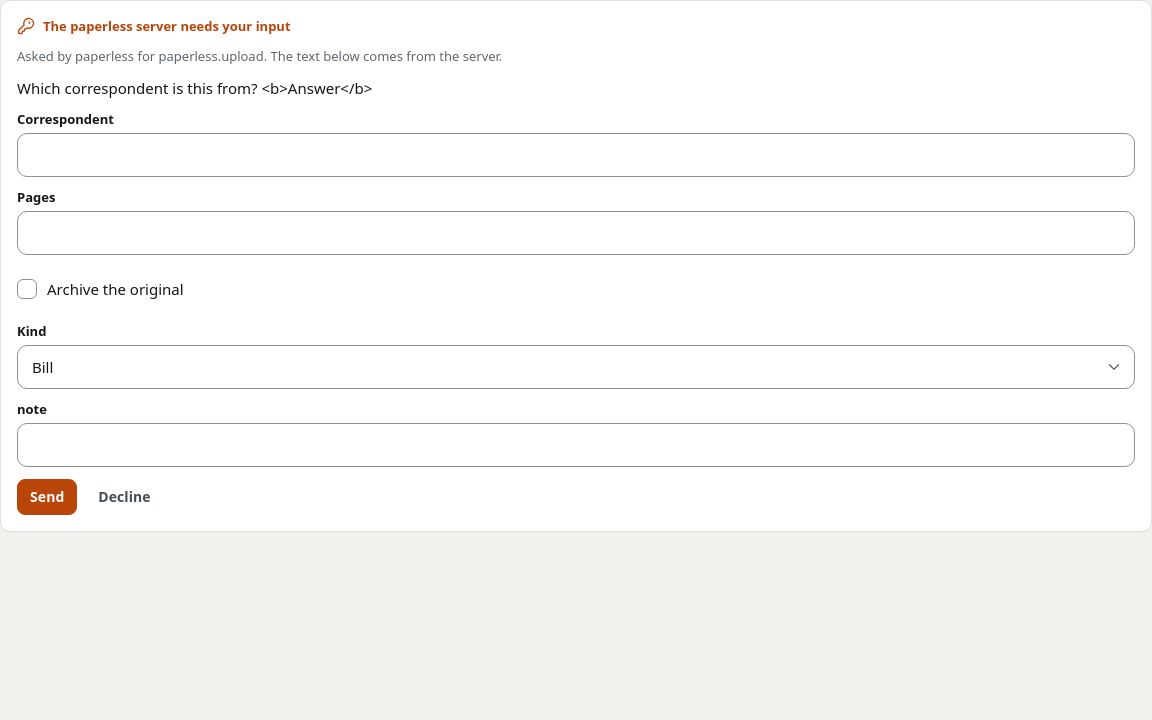
Test: InputRequestForm › sends the answer with typed values and leaves empty optional fields out
Type "ACME" into the field named "correspondent" at (576, 155), box [17,133,1135,177]
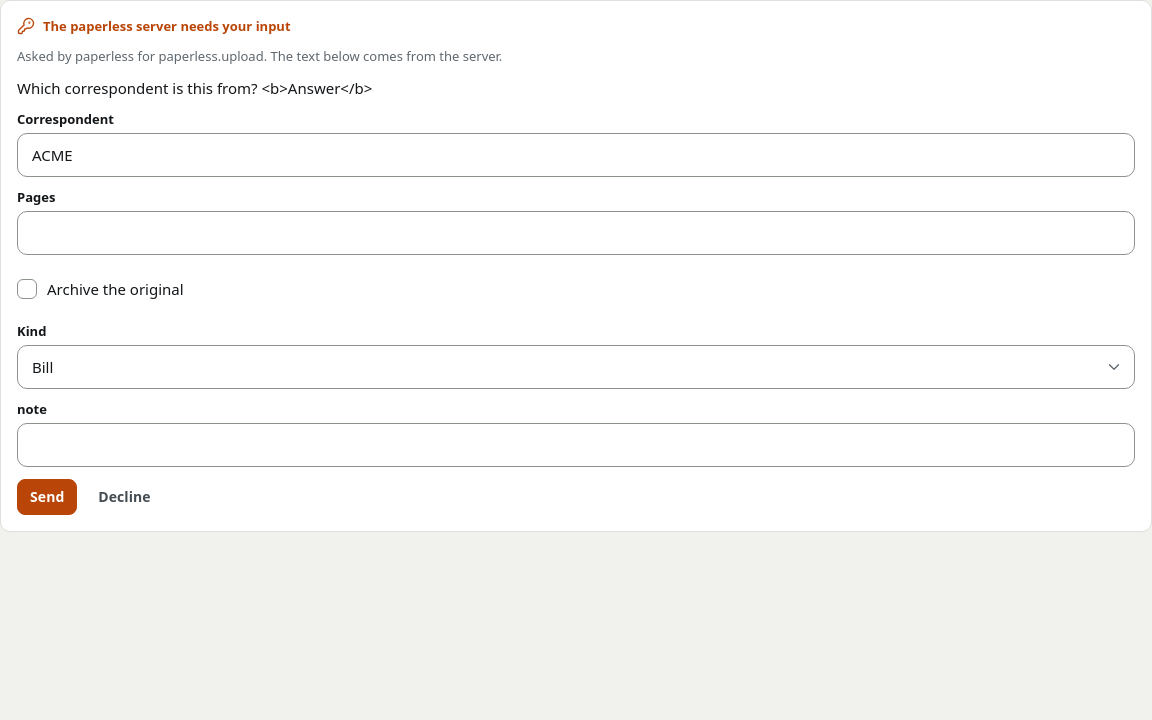
Type "3" into the number field named "pages" at (576, 233), box [17,211,1135,255]
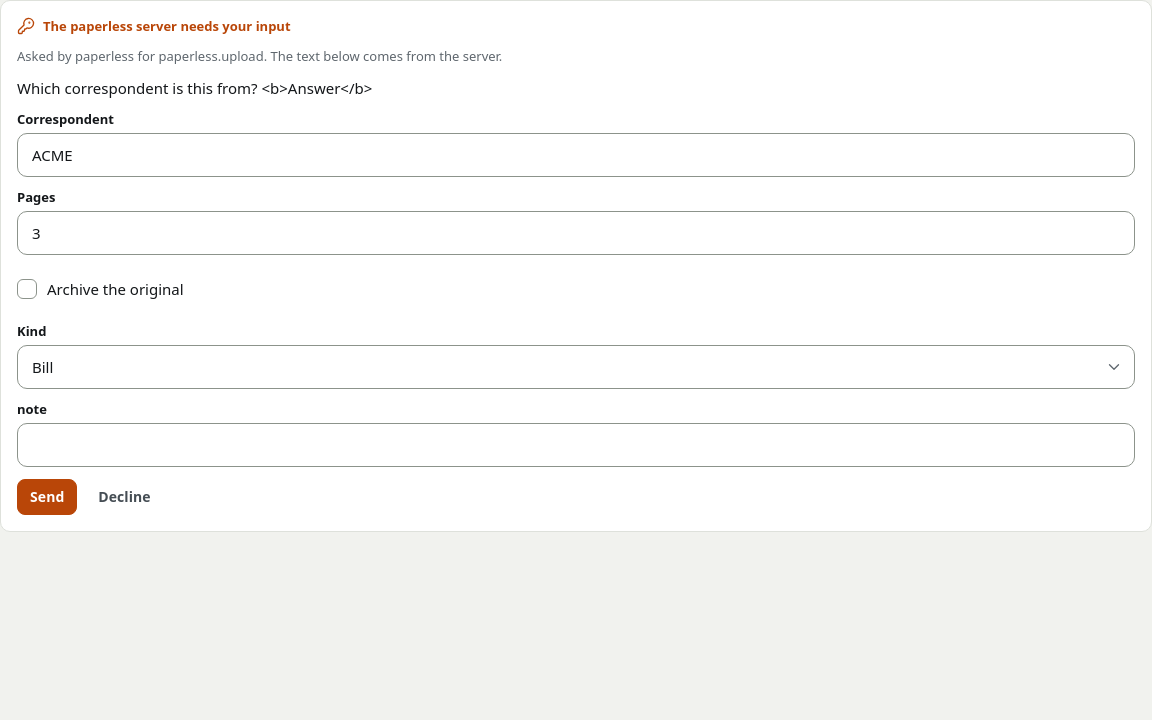
Click the checkbox named "archive" at (100, 289), box [17,279,184,299]
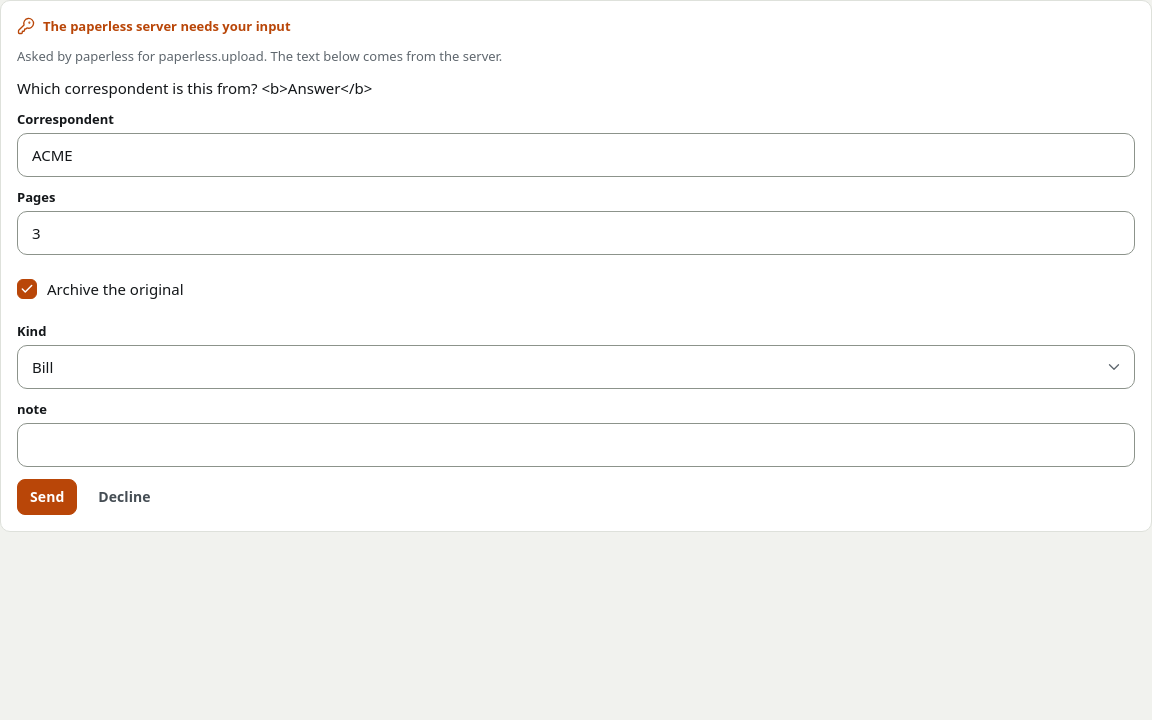
Select "Letter" in the dropdown named "kind" at (576, 367), box [17,345,1135,389]
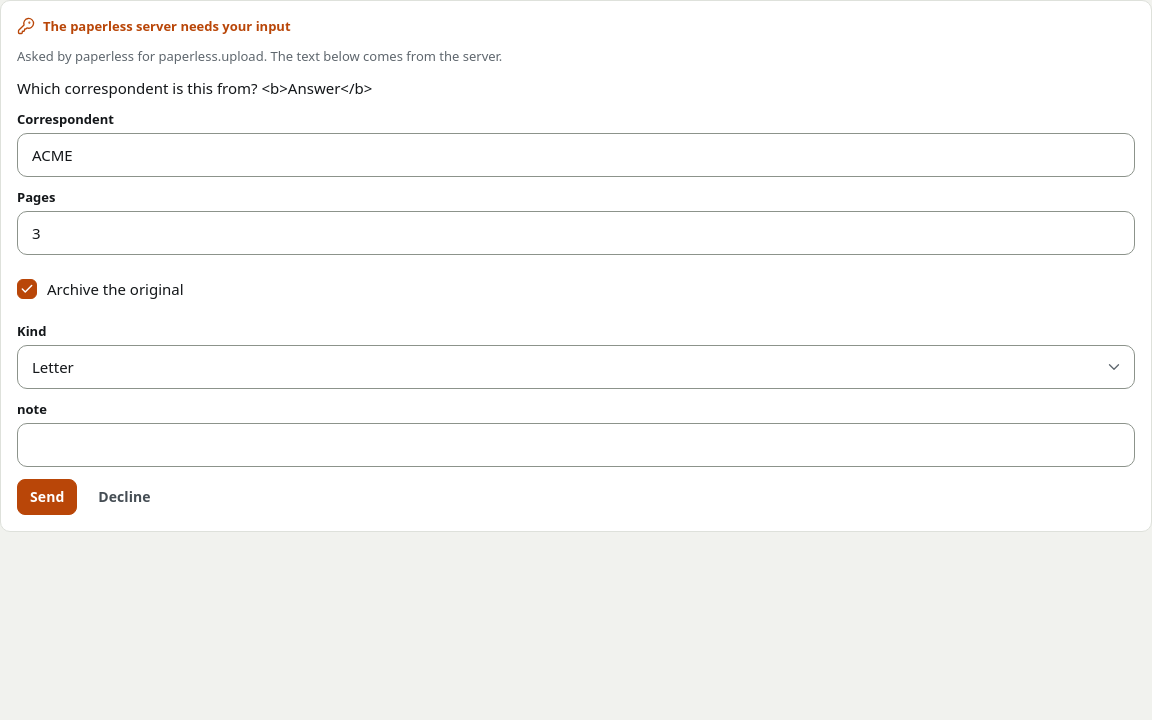
Submit the form, box [17,111,1135,515]
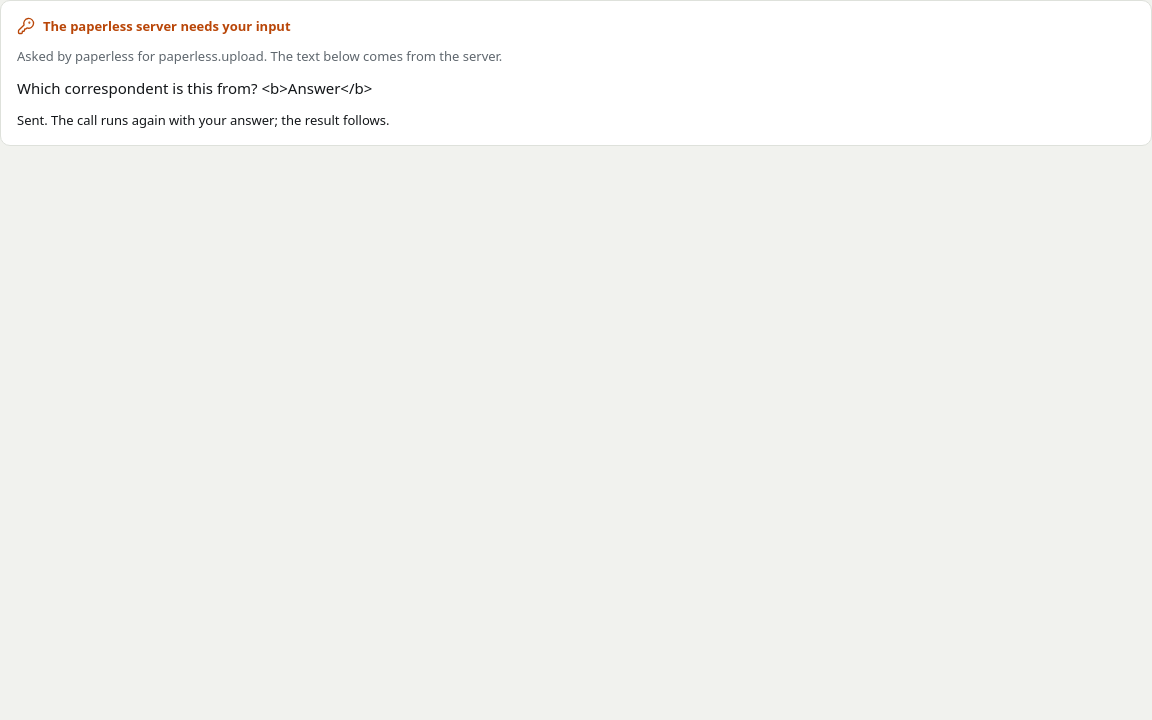
expect the message with test id "outcome" shows "Sent": met, box [17,111,390,129]
